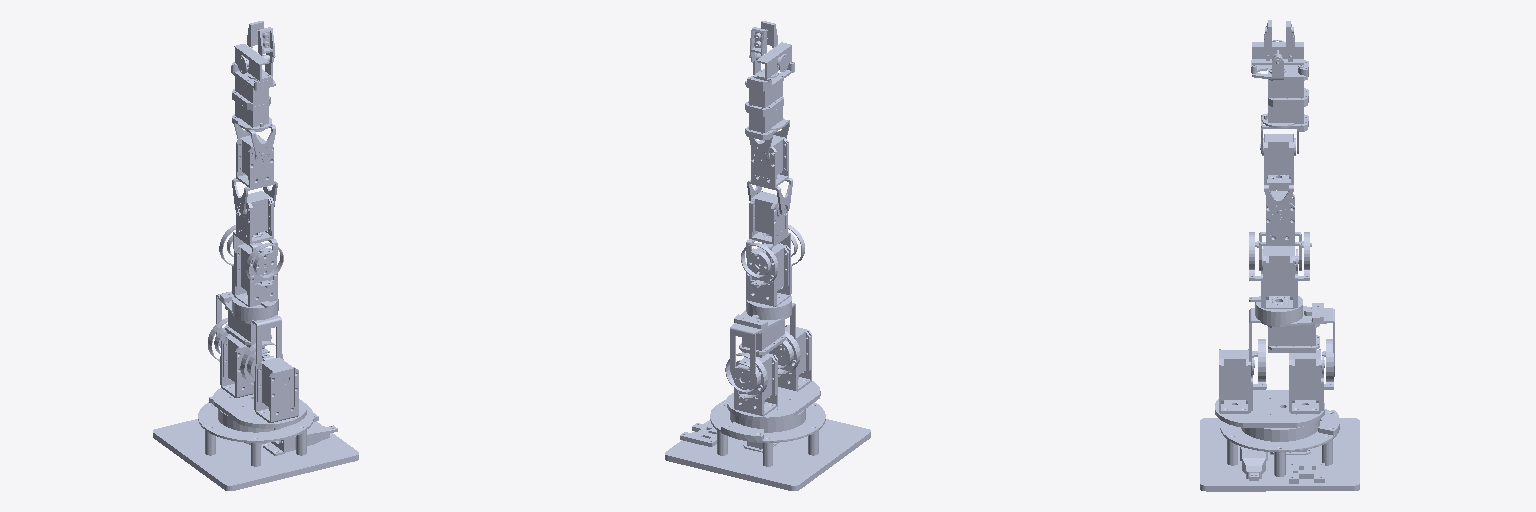
robot.urdf — cool1000:
<?xml version="1.0"?>

<!-- Robot Description format of COOL1000 arm -->
<!-- 
Author: [author]
Email: [email redacted]
Documentation:

URDF
http://wiki.ros.org/urdf

Gazebo installation
http://gazebosim.org/tutorials?tut=ros_installing&cat=connect_ros
-->
<robot name="cool1000">
	<material name="grey">
		<color rgba="0.819 0.8433 0.9294 1"/>
   	</material>

	<material name="silver">
		<color rgba="0.89 0.89 0.89 1.0"/>
   	</material>

      <gazebo>
          <plugin filename="libgazebo_ros_control.so" name="gazebo_ros_control">
                <robotNamespace>/cool1000</robotNamespace>
          </plugin>
      </gazebo>

	<!-- World-Link -->
	<link name="world"/>
	<joint name="fixed" type="fixed">
		<parent link="world"/>
		<child link="base_link"/>
	</joint>

	<!--Base-Link -->   
	<link name="base_link">
		<visual>
			<origin xyz="-1.62 0.865 0" rpy="0 0 -1.57" />
			<geometry>
				<mesh filename="package://cool1000_description/meshes/cool1000_base.dae" scale=".001 .001 .001"/>  
			</geometry>
			<material name="grey"/>
		</visual>
		<collision>
			<origin xyz="-1.62 0.865 0" rpy="0 0 -1.57" />
			<geometry>
				<mesh filename="package://cool1000_description/meshes/cool1000_base.dae" scale=".001 .001 .001"/> 
			</geometry>
		</collision>
		<inertial>
			<origin rpy="0 0 0" xyz="0 0 0"/>
			<mass value="1.0"/>
			<inertia ixx="1.0" ixy="0.0" ixz="0.0" iyy="1.0" iyz="0.0" izz="1.0"/>
		</inertial>
	</link>

	<!--Joint Configuration -->
	<!-- joint 1 -->
   	<joint name="joint1" type="revolute">
		<axis xyz="0 0 1" /> 
		<limit effort="3.0" velocity="3.0" lower="-2.617" upper="2.617"/>
		<origin xyz="0 0 0.06" rpy="0 0 0" />
	   	<parent link="base_link" />
	  	<child link="link1" />
	        <dynamics damping="1000.0" friction="1.0"/>
	</joint>
	<transmission name="trans1">
		<type>transmission_interface/SimpleTransmission</type>
		<joint name="joint1">
			<hardwareInterface>PositionJointInterface</hardwareInterface>
		</joint>
		<actuator name="motor1">
			<hardwareInterface>PositionJointInterface</hardwareInterface>
			<mechanicalReduction>1</mechanicalReduction>
		</actuator>
        </transmission>
	<!-- Link1 -->
	<link name="link1">
		<visual>
			<origin xyz="-0.805 0.322 -0.058" rpy="0 0 -1.57" />
			<geometry>
				<mesh filename="package://cool1000_description/meshes/link1.dae"/>  
			</geometry>	
			<material name="grey"/>
		</visual>
		<collision>
			<origin xyz="-0.805 0.322 -0.058" rpy="0 0 -1.57" />
			<geometry>
     	  			<mesh filename="package://cool1000_description/meshes/link1.dae"/>  
			</geometry>
     		</collision>
     		<inertial>
        		<origin rpy="0 0 0" xyz="0 0 0"/>
        		<mass value="0.5"/>
        		<inertia ixx="1.0" ixy="0.0" ixz="0.0" iyy="1.0" iyz="0.0" izz="1.0"/>
      		</inertial>
	</link>

	<!--Joint Configuration -->
	<!-- joint 2 -->
	<joint name="joint2" type="revolute">
		<axis xyz="0 1 0" /> 
		<limit effort="3.0" velocity="3.0" lower="-1.91" upper="1.91"/>
		<origin xyz="0 0 0.069" rpy="0 0 0" />
   		<parent link="link1" />
  	 	<child link="link2" />
 		<dynamics damping="100.0" friction="1.0"/>
	</joint>
	<transmission name="trans2">
		<type>transmission_interface/SimpleTransmission</type>
		<joint name="joint2">
			<hardwareInterface>PositionJointInterface</hardwareInterface>
		</joint>
		<actuator name="motor2">
			<hardwareInterface>PositionJointInterface</hardwareInterface>
			<mechanicalReduction>1</mechanicalReduction>
		</actuator>
        </transmission>
	<!-- Link2 -->
  	<link name="link2">
   		<visual>
    			<origin xyz="-0.805 0.315 -0.13" rpy="0 0 -1.57" />
    			<geometry>
     				<mesh filename="package://cool1000_description/meshes/link2.dae"/>  
    			</geometry>
    			<material name="grey"/>
   		</visual>
   		<collision>
    			<origin xyz="-0.805 0.315 -0.13" rpy="0 0 -1.57" />
    			<geometry>
     				<mesh filename="package://cool1000_description/meshes/link2.dae"/>  
    			</geometry>
   		</collision>
   		<inertial>
        		<origin rpy="0 0 0" xyz="0 0 0"/>
        		<mass value="0.5"/>
        		<inertia ixx="1.0" ixy="0.0" ixz="0.0" iyy="1.0" iyz="0.0" izz="1.0"/>
   		</inertial>
	</link>

	<!--Joint Configuration -->
	<!-- joint 3 -->
	<joint name="joint3" type="revolute">
		<axis xyz="0 0 1" /> 
		<limit effort="3.0" velocity="3.0" lower="-2.617" upper="2.617"/>
		<origin xyz="0 0 0.073" rpy="0 0 0" />
   		<parent link="link2" />
  	 	<child link="link3" />
 		<dynamics damping="100.0" friction="1.0"/>
	</joint>
	<transmission name="trans3">
		<type>transmission_interface/SimpleTransmission</type>
		<joint name="joint3">
			<hardwareInterface>PositionJointInterface</hardwareInterface>
		</joint>
		<actuator name="motor3">
			<hardwareInterface>PositionJointInterface</hardwareInterface>
			<mechanicalReduction>1</mechanicalReduction>
		</actuator>
        </transmission>	
	<!-- Link3 -->
	<link name="link3">
 		<visual>
  			<origin xyz="-0.805 0.315 -0.205" rpy="0 0 -1.57" />
  			<geometry>
     				<mesh filename="package://cool1000_description/meshes/link3.dae"/>  
  			</geometry>
  			<material name="grey"/>
 		</visual>
 		<collision>
  			<origin xyz="-0.805 0.315 -0.205" rpy="0 0 -1.57" />
			<geometry>
     				<mesh filename="package://cool1000_description/meshes/link3.dae"/>  
			</geometry>
	
		</collision>
		<inertial>
        		<origin rpy="0 0 0" xyz="0 0 0"/>
        		<mass value="0.2"/>
        		<inertia ixx="1.0" ixy="0.0" ixz="0.0" iyy="1.0" iyz="0.0" izz="1.0"/>
   		</inertial>
	</link>

	<!--Joint Configuration -->
	<!-- joint 4 -->
	<joint name="joint4" type="revolute">
		<axis xyz="0 1 0" /> 
		<limit effort="3.0" velocity="3.0" lower="-1.91" upper="1.91"/>
		<origin xyz="0 0 0.071" rpy="0 0 0" />
   		<parent link="link3" />
  	 	<child link="link4" />
 		<dynamics damping="100.0" friction="1.0"/>
	</joint>
	<transmission name="trans_4">
		<type>transmission_interface/SimpleTransmission</type>
		<joint name="joint4">
			<hardwareInterface>PositionJointInterface</hardwareInterface>
		</joint>
		<actuator name="motor4">
			<hardwareInterface>PositionJointInterface</hardwareInterface>
			<mechanicalReduction>1</mechanicalReduction>
		</actuator>
        </transmission>
	<!-- Link4 -->
	<link name="link4">
 		<visual>
  			<origin xyz="-0.805 0.315 -0.275" rpy="0 0 -1.57" />
  			<geometry>
     				<mesh filename="package://cool1000_description/meshes/link4.dae"/>  
  			</geometry>
  			<material name="grey"/>
 		</visual>
 		<collision>
  			<origin xyz="-0.805 0.315 -0.275" rpy="0 0 -1.57" />
			<geometry>
     				<mesh filename="package://cool1000_description/meshes/link4.dae"/>  
			</geometry>
	
		</collision>
		<inertial>
        		<origin rpy="0 0 0" xyz="0 0 0"/>
        		<mass value="0.2"/>
        		<inertia ixx="1.0" ixy="0.0" ixz="0.0" iyy="1.0" iyz="0.0" izz="1.0"/>
   		</inertial>
	</link>

	<!--Joint Configuration -->
	<!-- joint 5 -->
	<joint name="joint5" type="revolute">
		<axis xyz="0 1 0" /> 
		<limit effort="3.0" velocity="3.0" lower="-1.91" upper="1.91"/>
		<origin xyz="0 0 0.071" rpy="0 0 1.57" />
   		<parent link="link4" />
  		<child link="link5" />
 		<dynamics damping="100.0" friction="1.0"/>
	</joint>
	<transmission name="trans5">
		<type>transmission_interface/SimpleTransmission</type>
		<joint name="joint5">
			<hardwareInterface>PositionJointInterface</hardwareInterface>
		</joint>
		<actuator name="motor5">
			<hardwareInterface>PositionJointInterface</hardwareInterface>
			<mechanicalReduction>1</mechanicalReduction>
		</actuator>
        </transmission>
	<!-- Link5 -->
	<link name="link5">
 		<visual>
  			<origin xyz="-0.315 -0.805 -0.345" rpy="0 0 0" />
  			<geometry>
     				<mesh filename="package://cool1000_description/meshes/link5.dae"/>  
  			</geometry>
			<material name="grey"/>
	 	</visual>
 		<collision>
  			<origin xyz="-0.315 -0.805 -0.345" rpy="0 0 0" />
			<geometry>
     				<mesh filename="package://cool1000_description/meshes/link5.dae"/>  
			</geometry>	
		</collision>
		<inertial>
        		<origin rpy="0 0 0" xyz="0 0 0"/>
       			<mass value="0.2"/>
        		<inertia ixx="1.0" ixy="0.0" ixz="0.0" iyy="1.0" iyz="0.0" izz="1.0"/>
   		</inertial>
	</link>

	<!--Joint Configuration -->
	<!-- joint 6 -->
	<joint name="joint6" type="revolute">
		<axis xyz="1 0 0" /> 
		<limit effort="3.0" velocity="3.0" lower="-1.91" upper="1.91"/>
		<origin xyz="0 0 0.083" rpy="0 0 -3.14" />
   		<parent link="link5" />
  	 	<child link="link6" />
 		<dynamics damping="100.0" friction="1.0"/>
	</joint>
	<transmission name="trans6">
		<type>transmission_interface/SimpleTransmission</type>
		<joint name="joint6">
			<hardwareInterface>PositionJointInterface</hardwareInterface>
		</joint>
		<actuator name="motor6">
			<hardwareInterface>PositionJointInterface</hardwareInterface>
			<mechanicalReduction>1</mechanicalReduction>
		</actuator>
        </transmission>
	<!-- Link6 -->
	<link name="link6">
 		<visual>
  			<origin xyz="-0.315 -0.805 -0.425" rpy="0 0 0" />
  			<geometry>
     				<mesh filename="package://cool1000_description/meshes/link6.dae"/>  
  			</geometry>
  			<material name="grey"/>
 		</visual>
 		<collision>
  			<origin xyz="-0.315 -0.805 -0.425" rpy="0 0 0" />
			<geometry>
     				<mesh filename="package://cool1000_description/meshes/link6.dae"/>  
			</geometry>	
		</collision>
		<inertial>
        		<origin rpy="0 0 0" xyz="0 0 0"/>
        		<mass value="0.2"/>
        		<inertia ixx="1.0" ixy="0.0" ixz="0.0" iyy="1.0" iyz="0.0" izz="1.0"/>
   		</inertial>
	</link>

	<!--Joint Configuration -->
	<!-- joint 7 -->
	<joint name="joint7" type="revolute">
		<axis xyz="0 0 1" /> 
		<limit effort="3.0" velocity="3.0" lower="-2.617" upper="2.617"/>
		<origin xyz="0 0 0.035" rpy="0 0 1.57" />
   		<parent link="link6" />
  	 	<child link="link7" />
 		<dynamics damping="100.0" friction="1.0"/>
	</joint>
	<transmission name="trans7">
		<type>transmission_interface/SimpleTransmission</type>
		<joint name="joint7">
			<hardwareInterface>PositionJointInterface</hardwareInterface>
		</joint>
		<actuator name="motor7">
			<hardwareInterface>PositionJointInterface</hardwareInterface>
			<mechanicalReduction>1</mechanicalReduction>
		</actuator>
        </transmission>
	<!-- Link7 -->
	<link name="link7">
 		<visual>
  			<origin xyz="0.315 0.805 -0.460" rpy="0 0 3.14" />
  			<geometry>
     				<mesh filename="package://cool1000_description/meshes/link7.dae"/>  
  			</geometry>
  			<material name="grey"/>
 		</visual>
 		<collision>
  			<origin xyz="0.315 0.805 -0.460" rpy="0 0 3.14" />
			<geometry>
     				<mesh filename="package://cool1000_description/meshes/link7.dae"/>  
			</geometry>
		</collision>
		<inertial>
        		<origin rpy="0 0 0" xyz="0 0 0"/>
        		<mass value="0.2"/>
        		<inertia ixx="1.0" ixy="0.0" ixz="0.0" iyy="1.0" iyz="0.0" izz="1.0"/>
   		</inertial>
	</link>

	<!-- Dummy gripper base link and joint -->
	<!-- Added for locating EEF in MoveIt! -->
	<link name="gripper_base"/>
	<joint name="gripper_base_joint" type="fixed">
		<origin xyz="0.0 0.00 .12" rpy="0 0 0" />
		<parent link="link7"/>
		<child link="gripper_base"/>
	</joint>
		
	<!-- gripper_left -->
	<link name="gripper_left">
 		<visual>
  			<origin xyz=".33 0.85 -0.55" rpy="0 0 3.14" />
  			<geometry>
     				<mesh filename="package://cool1000_description/meshes/gripper_left.dae"/>  
  			</geometry>
  			<material name="grey"/>
 		</visual>
 		<collision>
  			<origin xyz=".33 0.85 -0.55" rpy="0 0 3.14" />
			<geometry>
     				<mesh filename="package://cool1000_description/meshes/gripper_left.dae"/>  
			</geometry>
	
		</collision>
		<inertial>
        		<origin rpy="0 0 0" xyz="0 0 0"/>
        		<mass value="0.2"/>
        		<inertia ixx="1.0" ixy="0.0" ixz="0.0" iyy="1.0" iyz="0.0" izz="1.0"/>
   		</inertial>
	</link>

	<!--Joint Configuration -->
	<!-- joint 8 -->
	<joint name="joint8" type="prismatic">
		<axis xyz="0 1 0" /> 
		<limit effort="3.0" velocity="3.0" lower="-0.17" upper="-0.15"/>
		<origin xyz="-0.0 0.13 .095" rpy="0 0 0" />
   		<parent link="link7" />
  		<child link="gripper_left" />
 		<dynamics damping="100.0" friction="1.0"/>
	</joint>
	<transmission name="trans8">
		<type>transmission_interface/SimpleTransmission</type>
		<joint name="joint8">
			<hardwareInterface>PositionJointInterface</hardwareInterface>
		</joint>
		<actuator name="motor8">
			<hardwareInterface>PositionJointInterface</hardwareInterface>
			<mechanicalReduction>1</mechanicalReduction>
		</actuator>
        </transmission>
	<!-- gripper_right -->
	<link name="gripper_right">
 		<visual>
  			<origin xyz=".33 0.785 -0.55" rpy="0 0 3.14" />
  			<geometry>
     				<mesh filename="package://cool1000_description/meshes/gripper_right.dae"/>  
  			</geometry>
  			<material name="grey"/>
 		</visual>
 		<collision>
  			<origin xyz=".33 0.785 -0.55" rpy="0 0 3.14" />
			<geometry>
     				<mesh filename="package://cool1000_description/meshes/gripper_right.dae"/>  
			</geometry>	
		</collision>
		<inertial>
        		<origin rpy="0 0 0" xyz="0 0 0"/>
        		<mass value="0.2"/>
        		<inertia ixx="1.0" ixy="0.0" ixz="0.0" iyy="1.0" iyz="0.0" izz="1.0"/>
   		</inertial>
	</link>

	<!--Joint Configuration -->
	<!-- joint 9 -->
	<joint name="joint9" type="prismatic">
		<axis xyz="0 1 0" /> 
		<limit effort="3.0" velocity="3.0" lower="-0.16" upper="-0.14"/>
      		<mimic joint="joint8" multiplier="-1.0" offset="-0.31"/>
		<origin xyz="-0.0 0.16 .095" rpy="0 0 0" />
   		<parent link="link7" />
  	 	<child link="gripper_right" />
 		<dynamics damping="100.0" friction="1.0"/>
	</joint>
</robot>

--- Render facts (derived) ---
3 views of the same robot in one strip: view 1: azimuth 30°, elevation 25°; view 2: azimuth 150°, elevation 25°; view 3: azimuth 270°, elevation 25° (orthographic).
Model cool1000 with 12 links and 11 joints (7 revolute, 2 prismatic, 2 fixed), rooted at world, posed all joints at 0 but 2 set to mid-range because 0 is outside their limits (joint8 = -0.16, joint9 = -0.15).
Links seen in each view (by area): view 1: base_link, link1, link7, link2, link3, link4, link5, link6; view 2: base_link, link1, link2, link7, link3, link4, link5, link6; view 3: base_link, link1, link7, link2, link3, link5, link4.
Boxes of the visible links, bbox=[...] form: base_link: bbox=[153, 396, 358, 490]; link1: bbox=[208, 318, 306, 429]; link7: bbox=[231, 44, 275, 131]; link2: bbox=[216, 291, 281, 363]; link3: bbox=[219, 225, 283, 307]; link4: bbox=[233, 191, 277, 274]; link5: bbox=[232, 134, 277, 215]; link6: bbox=[234, 117, 275, 161]; base_link: bbox=[665, 399, 870, 490]; link1: bbox=[725, 325, 820, 421]; link2: bbox=[730, 296, 795, 389]; link7: bbox=[745, 42, 794, 140]; link3: bbox=[741, 225, 804, 306]; link4: bbox=[746, 191, 790, 274]; link5: bbox=[747, 135, 792, 215]; link6: bbox=[749, 118, 789, 161]; base_link: bbox=[1200, 409, 1359, 491]; link1: bbox=[1215, 339, 1333, 427]; link7: bbox=[1251, 40, 1308, 131]; link2: bbox=[1249, 296, 1334, 376]; link3: bbox=[1249, 232, 1309, 308]; link5: bbox=[1260, 134, 1295, 219]; link4: bbox=[1255, 191, 1311, 270].
Size in the robot's own frame: 0.2001 by 0.2001 by 0.6008 metres.
Meshes: 10 distinct files referenced, 10 mesh visuals loaded (10 Collada DAE).
